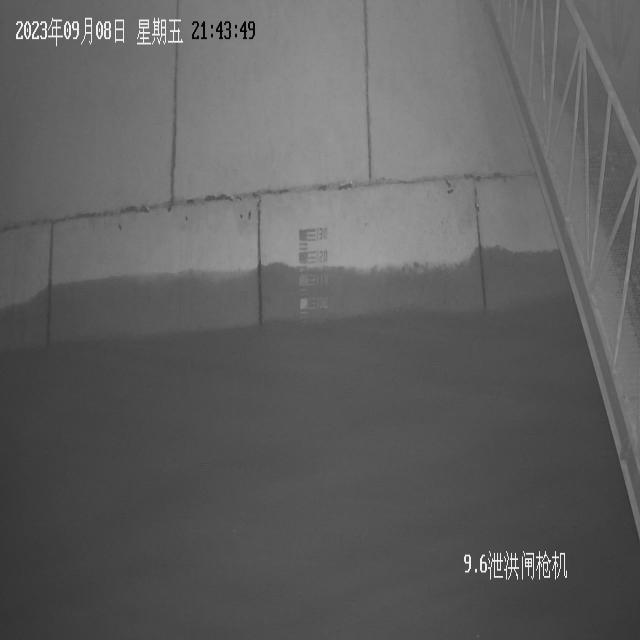ruler: (295, 225, 330, 315)
value: (315, 294, 330, 312), (316, 248, 329, 266), (316, 272, 330, 288), (316, 226, 328, 244)
